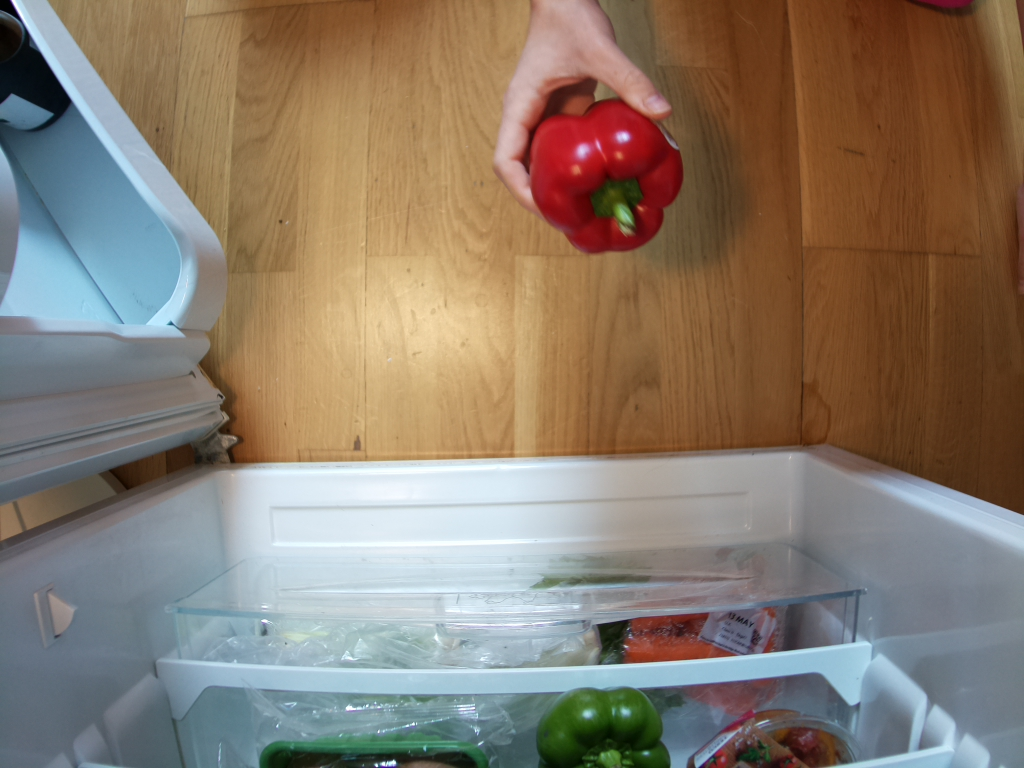pepper: (526, 98, 681, 254), (536, 686, 672, 768)
